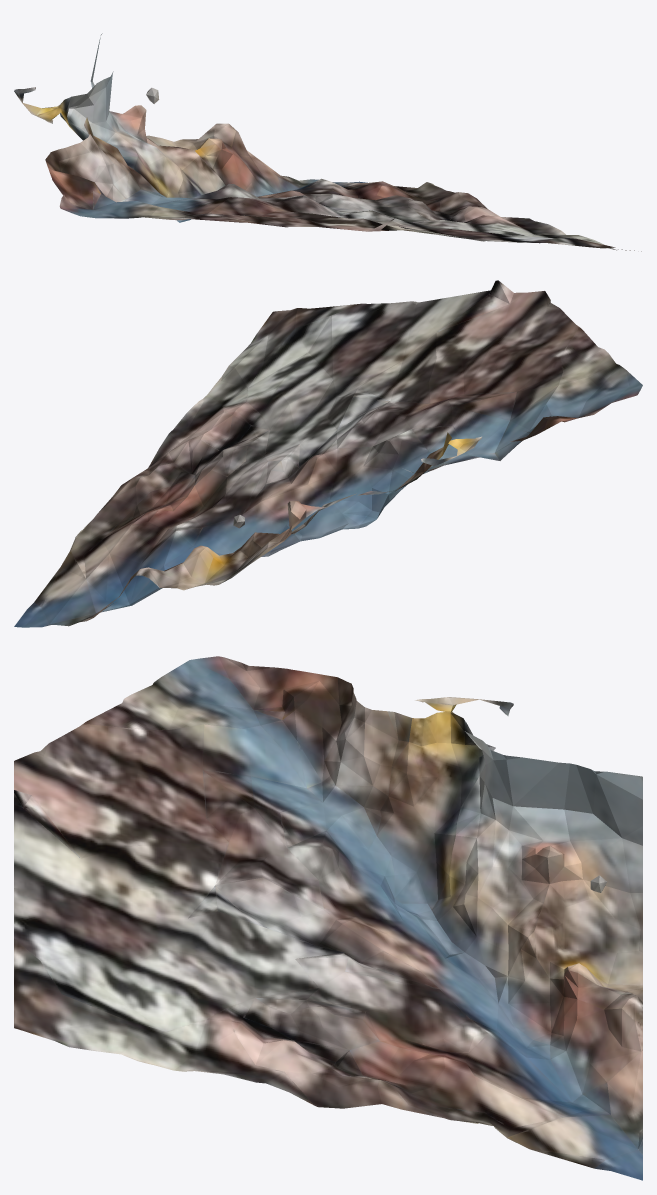
3 renders of one model, top to bottom at view 1: azimuth 30°, elevation 25°; view 2: azimuth 150°, elevation 25°; view 3: azimuth 270°, elevation 25°, orthographic. The views are drawn at different scales.
Size of the model in its own units: 1.67 by 0.7599 by 1.67.
2 materials, 2 textured.
